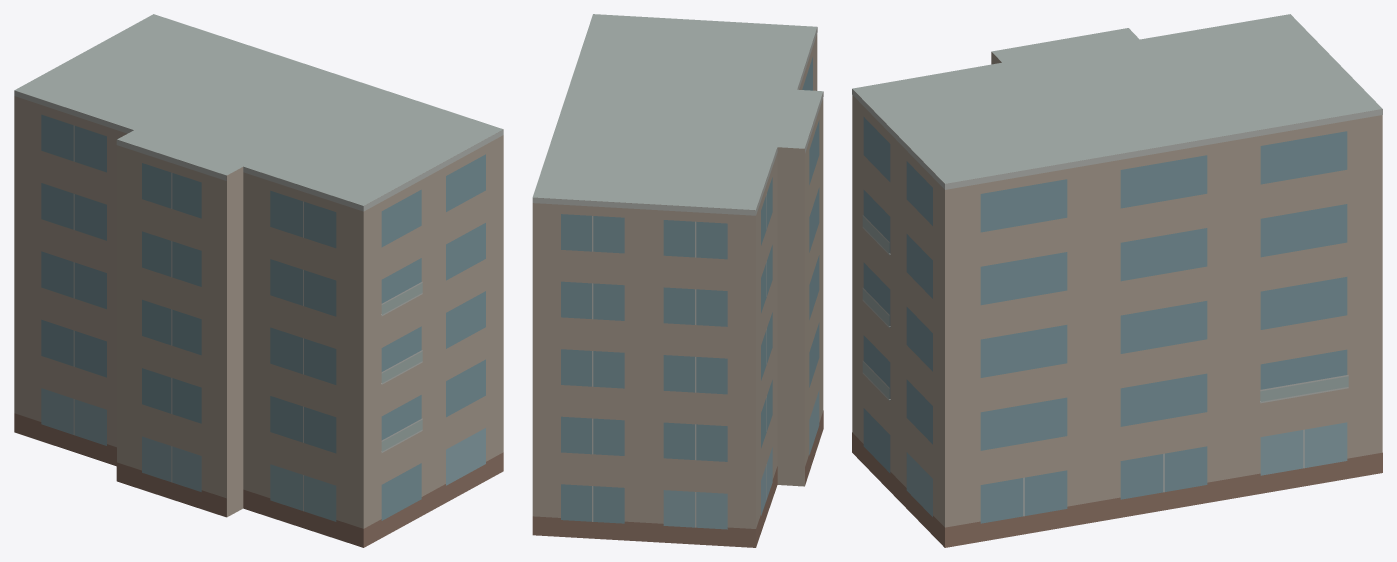
File: survey-upis-32549046.glb
The picture shows the model from 3 angles, left to right: view 1: azimuth 30°, elevation 25°; view 2: azimuth 150°, elevation 25°; view 3: azimuth 270°, elevation 25°; orthographic projection. The views are drawn at different scales.
Visible parts, largest first — view 1: survey-upis-32549046.tmp; view 2: survey-upis-32549046.tmp; view 3: survey-upis-32549046.tmp.
Part boxes in pixels (x1,y1,x2,y2): survey-upis-32549046.tmp: [14, 14, 503, 547]; survey-upis-32549046.tmp: [532, 14, 823, 547]; survey-upis-32549046.tmp: [852, 14, 1382, 547].
Bounding box in the file's own units: 14.83 × 14.8 × 19.56.
